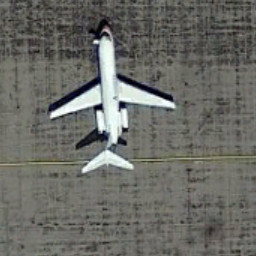Airplane: (40, 15, 181, 184)
